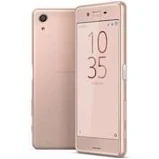sony: (74, 1, 127, 158)
